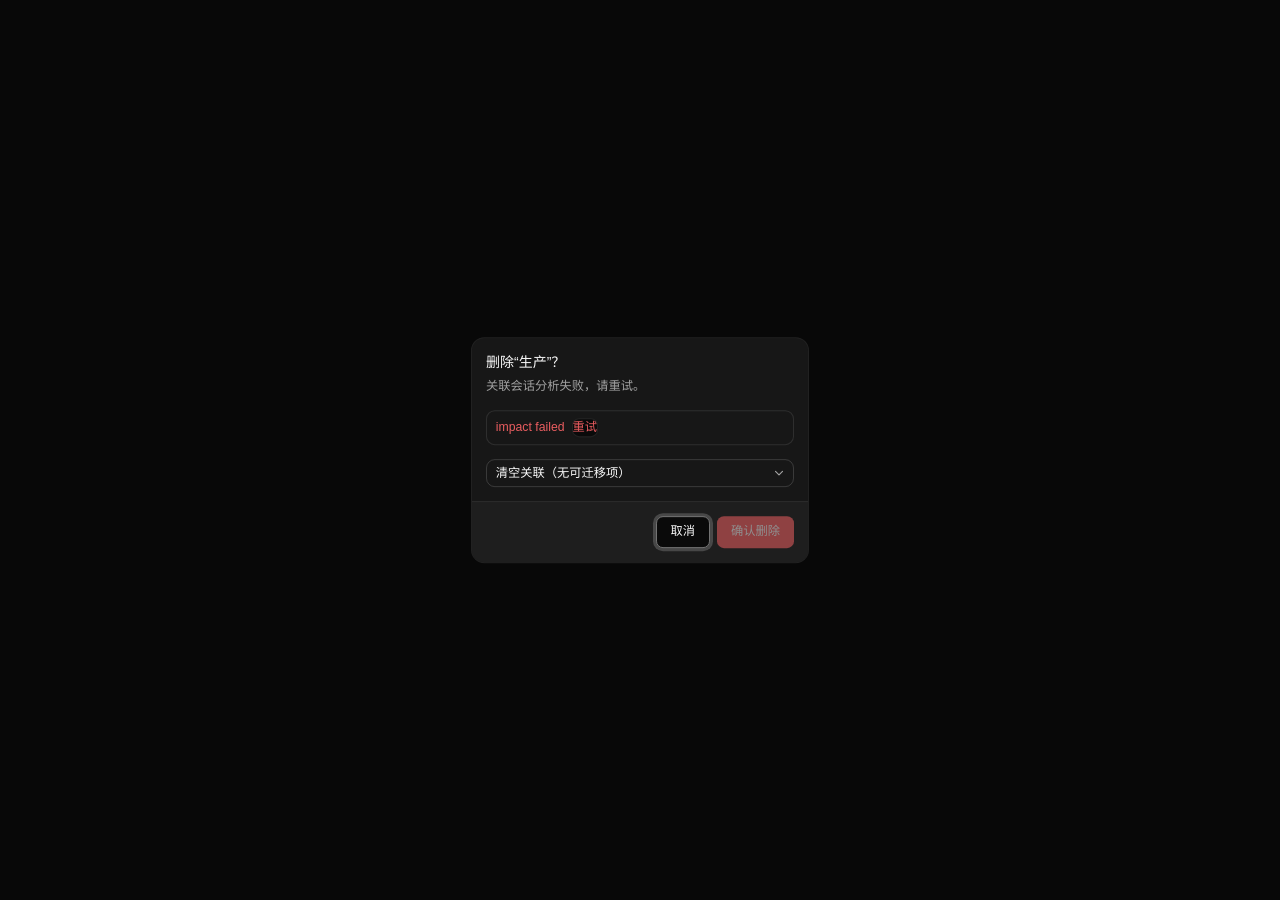
Test: SessionAssetCatalogDialogs › shows delete impact load failures inline without toast
The width and height of the screenshot is (1280, 900).
Expected: the message shows "impact failed", [496, 420, 565, 434]
Expected: the text "关联会话分析失败，请重试。" is shown, [486, 378, 645, 396]
Click the button "重试" at coordinates (585, 428), box [572, 418, 598, 437]
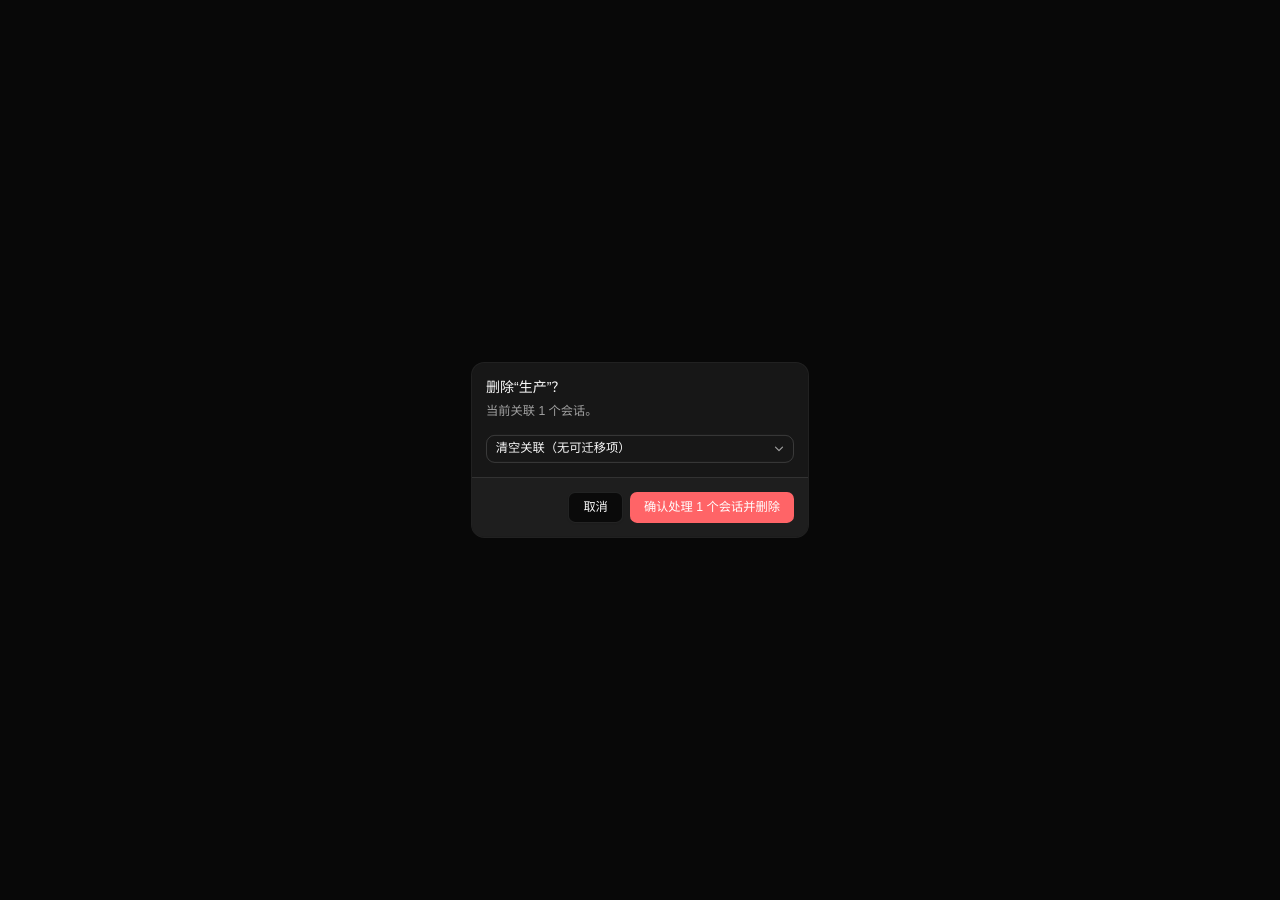
Expected: the text "当前关联 1 个会话。" is shown, [486, 403, 598, 421]
